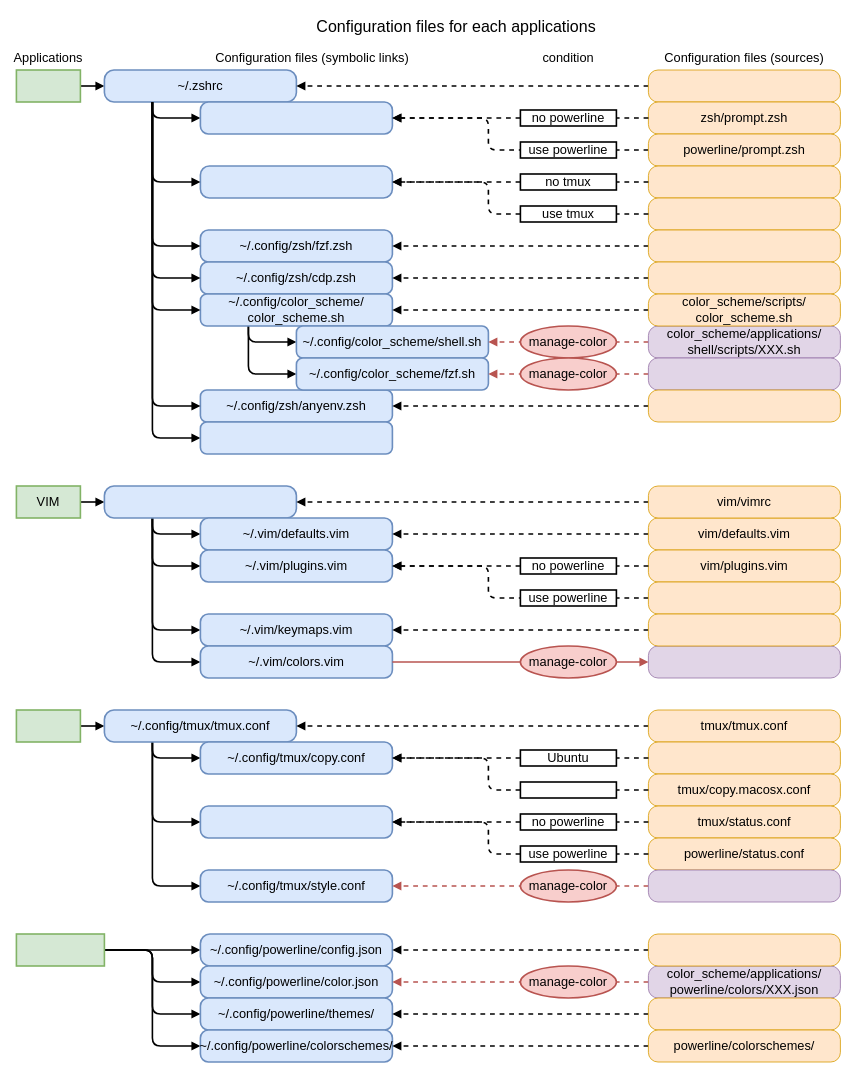
This 854x1076 diagram has some shape labels left out. The shapes that lost their labels are listed below. From the top down, each one's centre as x and y in pixels, then its label:
point (48, 85): ZSH
point (744, 85): zsh/zshrc
point (296, 117): ~/.config/zsh/prompt.zsh
point (296, 181): ~/.config/zsh/tmux.zsh
point (744, 181): zsh/tmux.zsh
point (744, 213): tmux/tmux.zsh
point (744, 245): zsh/fzf.zsh
point (744, 277): zsh/cdp.zsh
point (744, 373): color_scheme/applications/ fzf/scripts/XXX.sh
point (744, 405): zsh/anyenv.zsh
point (296, 437): ~/.config/zsh/local.zsh
point (200, 501): ~/.vim/vimrc
point (744, 597): powerline/plugins.vim
point (744, 629): vim/keymaps.vim
point (744, 661): color_scheme/applications/ vim/colors/XXX.vim
point (48, 725): TMUX
point (744, 757): tmux/copy.ubuntu.conf
point (568, 789): Mac OS X
point (296, 821): ~/.config/tmux/status.conf
point (744, 885): color_scheme/applications/ tmux/style/XXX.conf
point (60, 949): POWERLINE
point (744, 949): powerline/config.json
point (744, 1013): powerline/themes/
